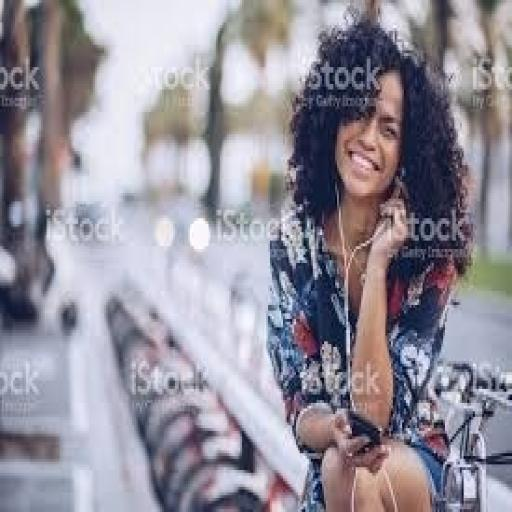listening_to_music: (262, 14, 474, 509)
